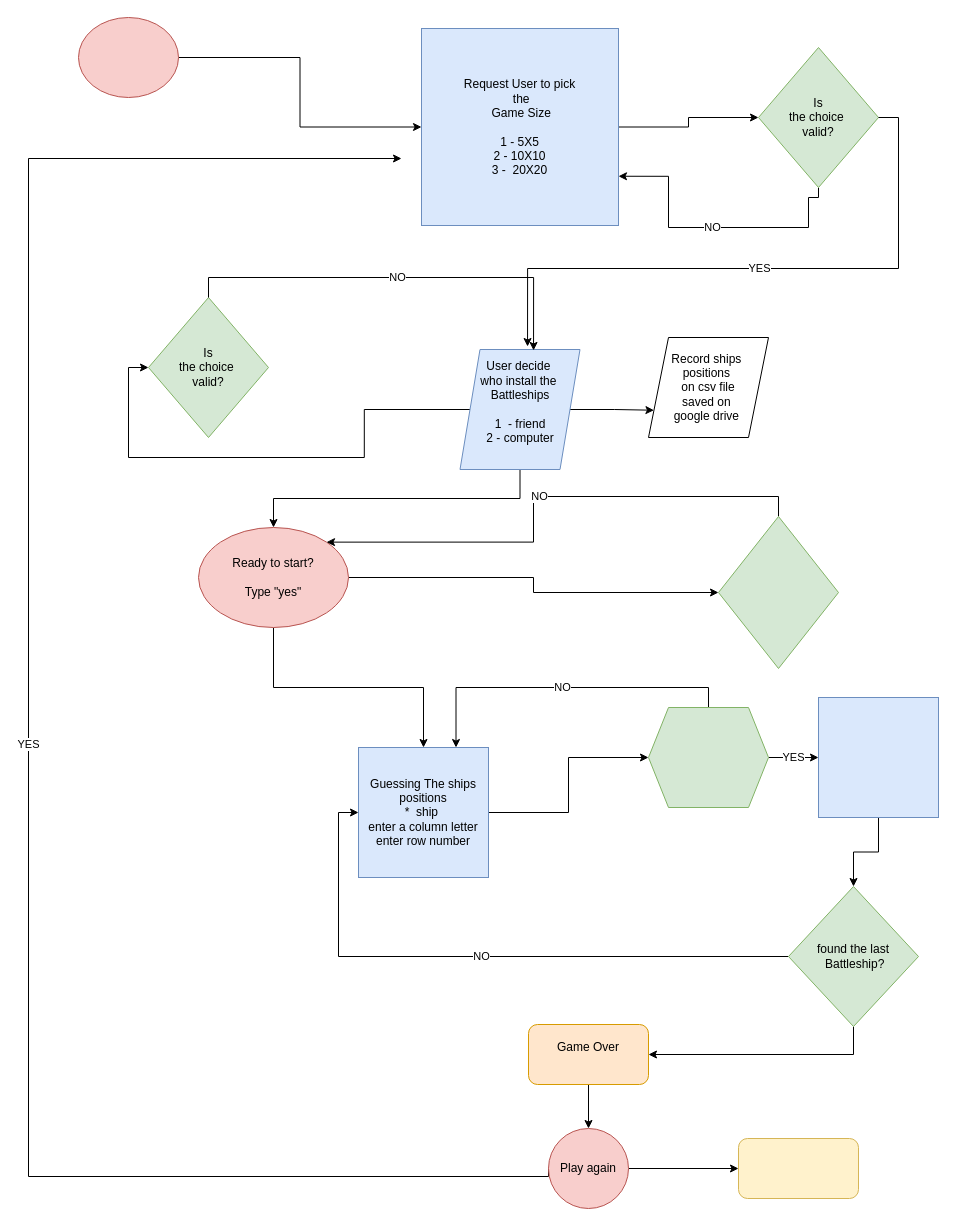
Some shapes in this 956 by 1226 pixel diagram are drawn without their labels. The shapes that lost their labels are listed below. From the top down, each one's centre as x and y in pixels, then its label:
[128,57]: Welcome Message
[778,592]: If "yes" entered
[708,757]: valid entries
[878,757]: display entry X = Hit O = Miss _ = Empty
[798,1168]: Goodbye Message!
